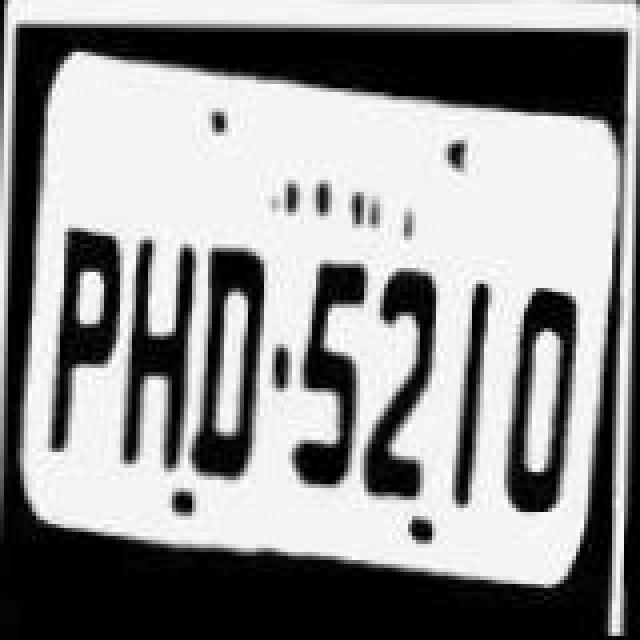1: (440, 266, 500, 518)
2: (362, 248, 446, 504)
5: (288, 236, 376, 496)
D: (190, 222, 274, 482)
H: (120, 218, 208, 466)
O: (502, 264, 590, 520)
P: (40, 198, 128, 474)
